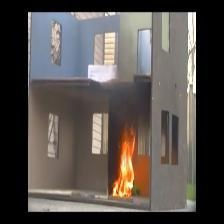fire: (106, 122, 145, 199)
